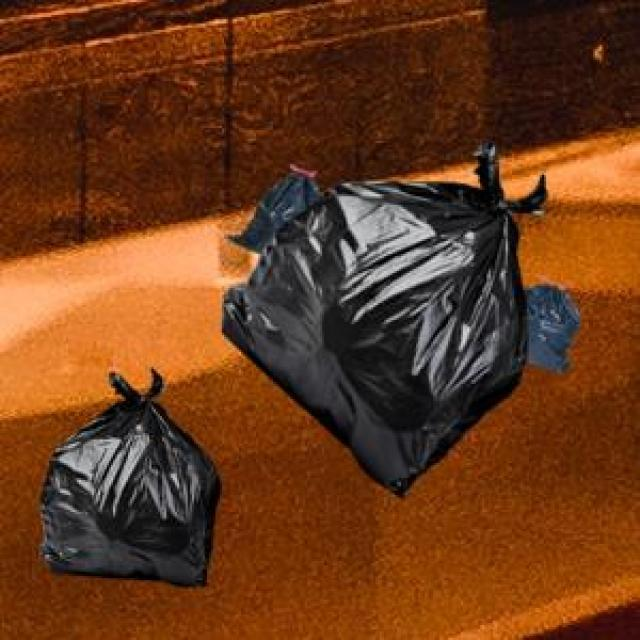Trashbag: (213, 179, 526, 502), (41, 411, 218, 588), (524, 279, 582, 375)
